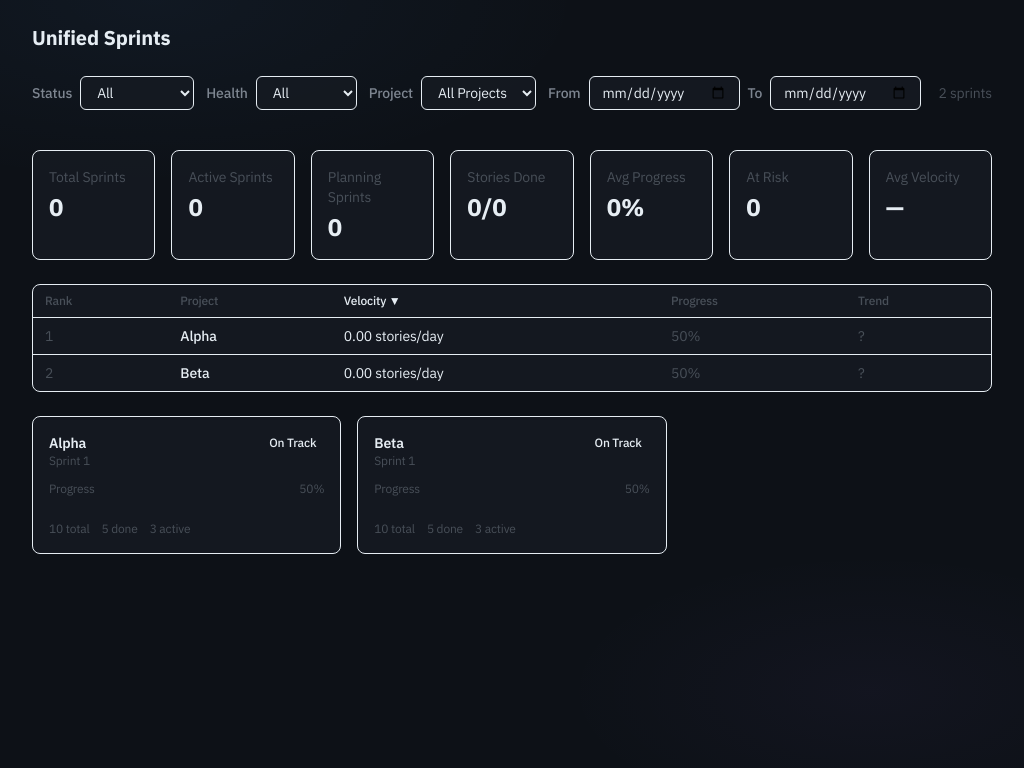
Test: UnifiedSprintView › restores all sprints when filters are cleared
Apply filter
Step 1. Select "Active" in the dropdown labelled "Status" → point(137, 93), box [80,76,194,110]
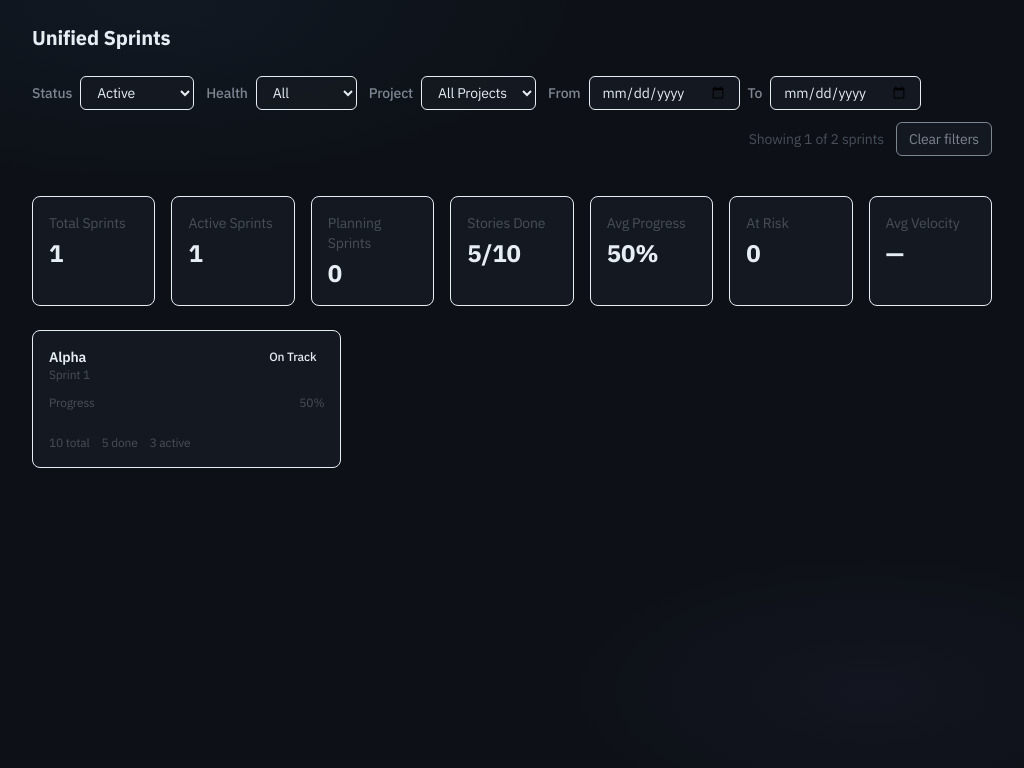
Check: the headings read "Alpha", in this order, box [49,347,90,367]
Clear filters
Step 2. Click the button "Clear filters" → point(944, 139), box [896,122,992,156]
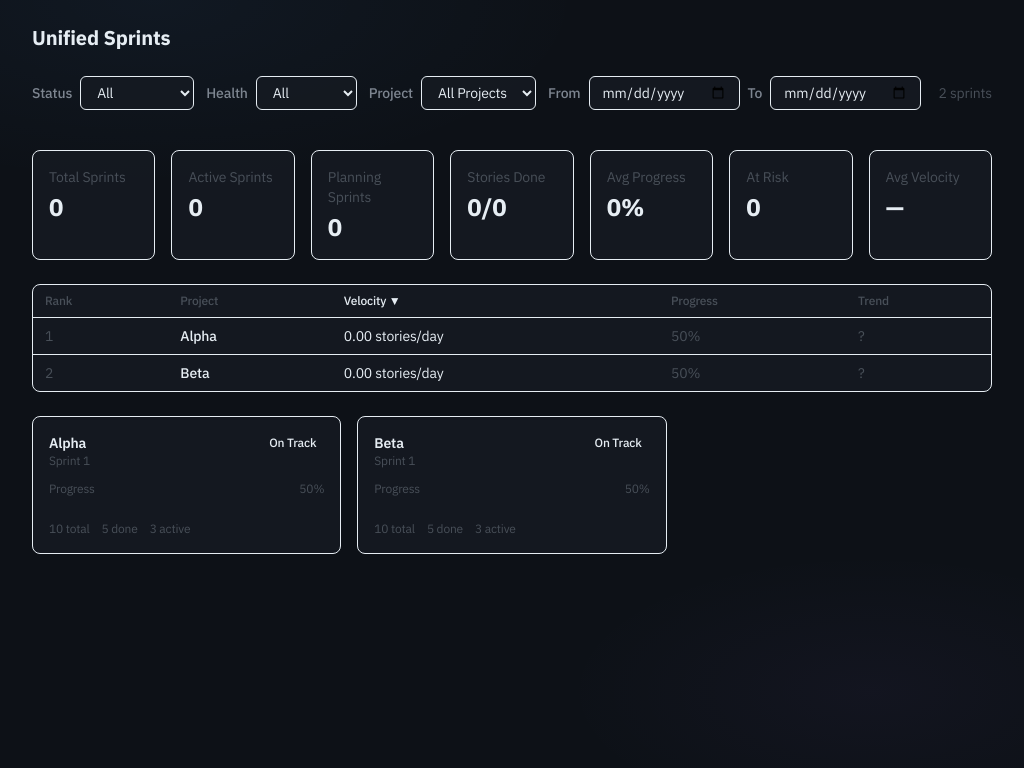
Check: the headings read "Alpha", "Beta", in this order, box [49,433,90,453]; [374,434,404,452]
